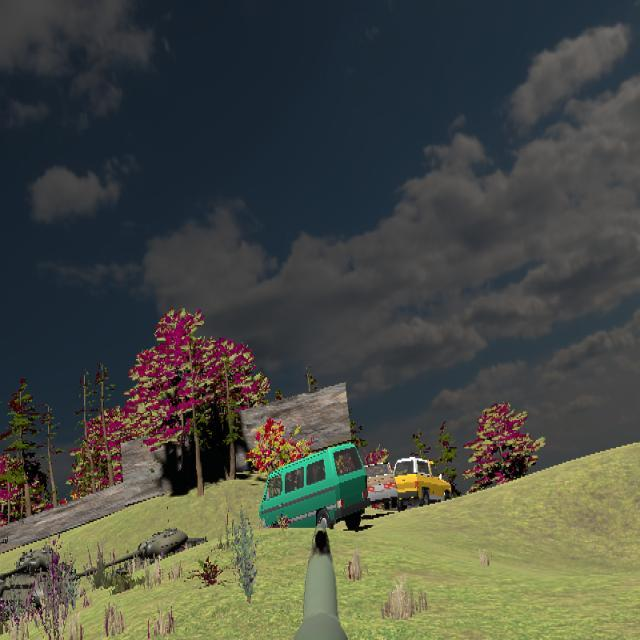Tank: (93, 527, 209, 594), (0, 547, 76, 616)
car: (259, 444, 367, 533), (394, 456, 452, 510)
